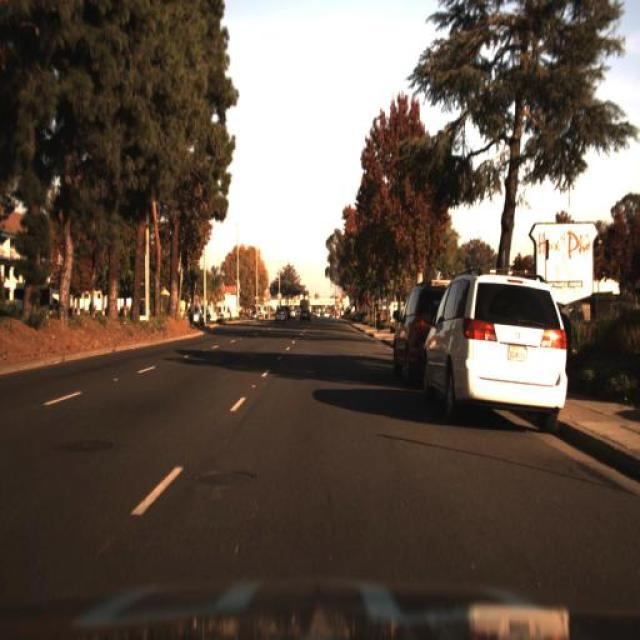car: (418, 261, 572, 444), (391, 276, 428, 396), (179, 302, 203, 327), (268, 296, 288, 322), (295, 302, 313, 328), (200, 302, 214, 326), (373, 304, 382, 340)
trafficLight: (373, 302, 386, 334)
